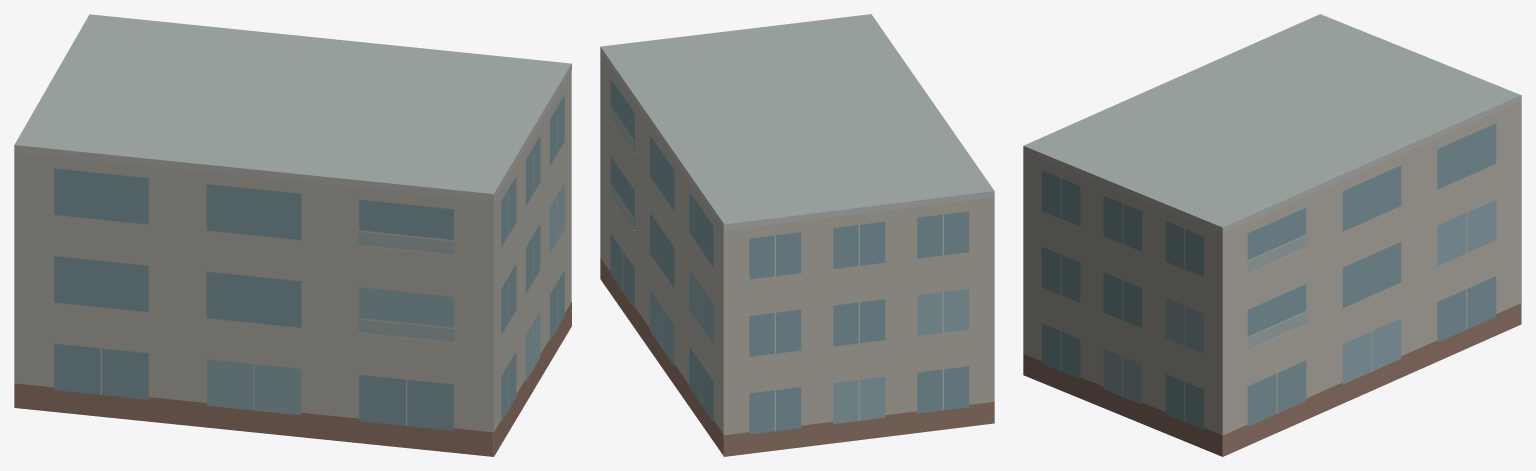
The model's file is survey-upis-32892480.glb.
3 views of the same model, side by side, from view 1: azimuth 30°, elevation 25°; view 2: azimuth 150°, elevation 25°; view 3: azimuth 270°, elevation 25° (orthographic). The views are drawn at different scales.
Visible parts, largest first — view 1: survey-upis-32892480.tmp; view 2: survey-upis-32892480.tmp; view 3: survey-upis-32892480.tmp.
Boxes of the visible parts, x1,y1,x2,y2 form: survey-upis-32892480.tmp: (14,14,571,456); survey-upis-32892480.tmp: (600,14,994,456); survey-upis-32892480.tmp: (1023,14,1521,456).
Bounding box in the file's own units: 18.28 × 9.15 × 18.03.
